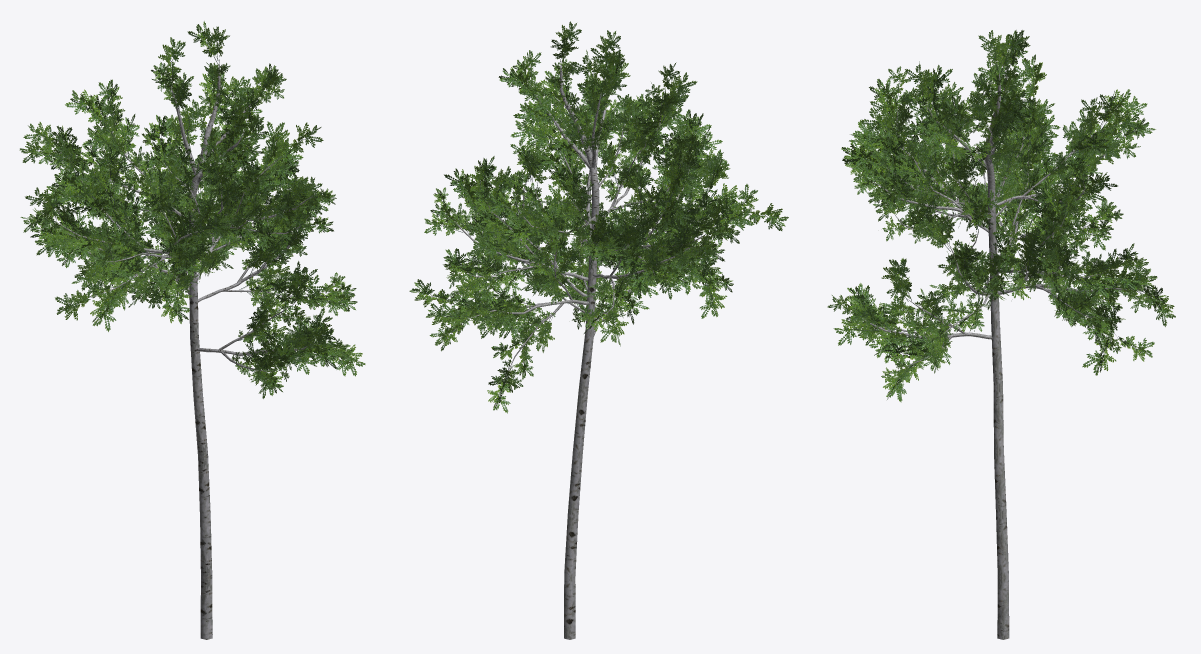
Rendered from strom_briza.glb.
The picture shows the model from 3 angles, left to right: view 1: azimuth 30°, elevation 25°; view 2: azimuth 150°, elevation 25°; view 3: azimuth 270°, elevation 25°; orthographic projection.
Visible parts, largest first — view 1: leaves, bark; view 2: leaves, bark; view 3: leaves, bark.
Boxes of the visible parts, bbox=[...] form: leaves: bbox=[19, 21, 365, 398]; bark: bbox=[57, 61, 323, 639]; leaves: bbox=[409, 21, 788, 413]; bark: bbox=[453, 62, 726, 639]; leaves: bbox=[827, 30, 1175, 402]; bark: bbox=[860, 63, 1140, 639].
Size of the model in its own units: 37.57 by 71.45 by 38.49.
2 materials, 2 textured.
